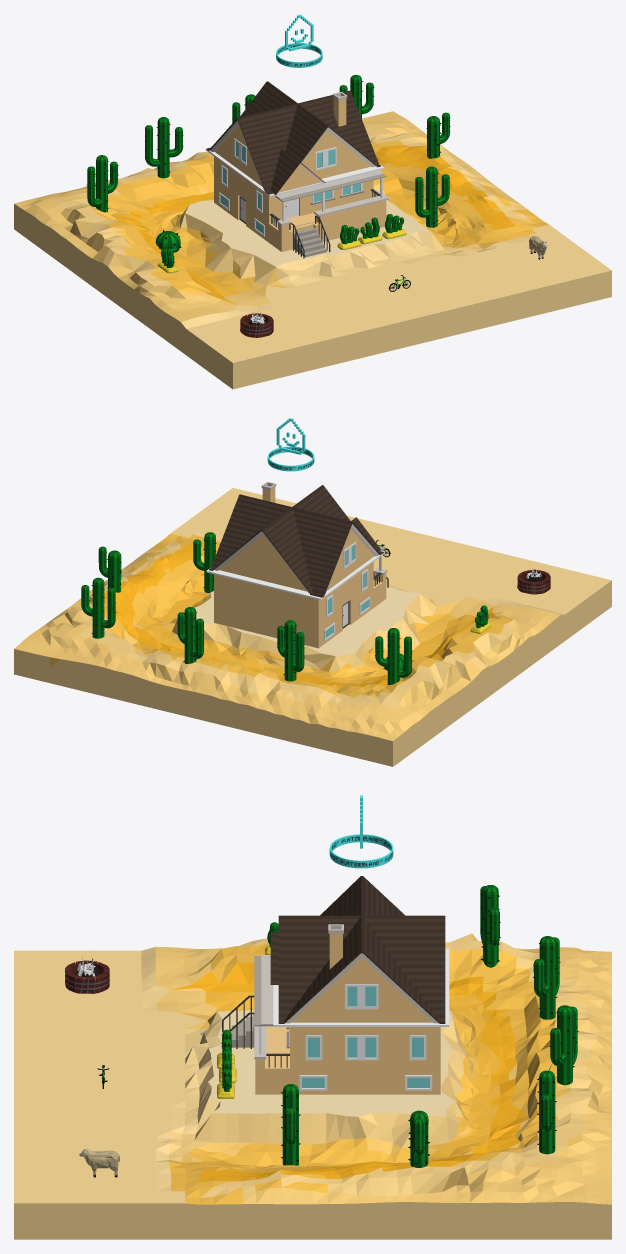
3 views of the same model, one above another, from view 1: azimuth 30°, elevation 25°; view 2: azimuth 150°, elevation 25°; view 3: azimuth 270°, elevation 25° (orthographic). The views are drawn at different scales.
Parts seen in each view (by area): view 1: Cube.001, Cube.235, Cylinder.044, Cylinder.037, Cylinder.045, TYPE_PREMIUM, Cylinder.038, OBJRANDOM_CAMPFIRE, Cylinder.042; view 2: Cube.001, Cube.235, Cylinder.042, Cylinder.045, Cylinder.044, Cylinder.043, TYPE_PREMIUM, Cylinder.037, Cylinder.038, OBJRANDOM_CAMPFIRE; view 3: Cube.001, Cube.235, Cylinder.044, Cylinder.043, Cylinder.045, Cylinder.042, Cylinder.037, OBJRANDOM_CAMPFIRE, TYPE_PREMIUM, Cylinder.038, ANIMAL_OVEJA.
Part boxes in pixels (x1,y1,x2,y2): Cube.001: [14, 111, 611, 389]; Cube.235: [205, 81, 388, 258]; Cylinder.044: [145, 117, 183, 178]; Cylinder.037: [415, 166, 449, 227]; Cylinder.045: [87, 155, 118, 212]; TYPE_PREMIUM: [276, 14, 322, 67]; Cylinder.038: [426, 112, 450, 158]; OBJRANDOM_CAMPFIRE: [240, 312, 273, 337]; Cylinder.042: [339, 75, 374, 118]; Cube.001: [14, 488, 611, 766]; Cube.235: [206, 481, 388, 648]; Cylinder.042: [81, 577, 116, 638]; Cylinder.045: [374, 628, 412, 684]; Cylinder.044: [277, 620, 304, 681]; Cylinder.043: [177, 607, 203, 663]; TYPE_PREMIUM: [267, 418, 314, 471]; Cylinder.037: [193, 532, 220, 592]; Cylinder.038: [98, 546, 121, 592]; OBJRANDOM_CAMPFIRE: [517, 569, 550, 594]; Cube.001: [14, 933, 611, 1239]; Cube.235: [222, 876, 449, 1094]; Cylinder.044: [533, 936, 560, 1019]; Cylinder.043: [549, 1005, 578, 1085]; Cylinder.045: [480, 885, 500, 967]; Cylinder.042: [537, 1070, 556, 1154]; Cylinder.037: [281, 1084, 300, 1165]; OBJRANDOM_CAMPFIRE: [65, 956, 109, 993]; TYPE_PREMIUM: [329, 795, 393, 868]; Cylinder.038: [408, 1110, 429, 1167]; ANIMAL_OVEJA: [79, 1148, 119, 1177].
Size of the model in its own units: 4002 by 2441 by 4001.
34 materials, 3 textured.
